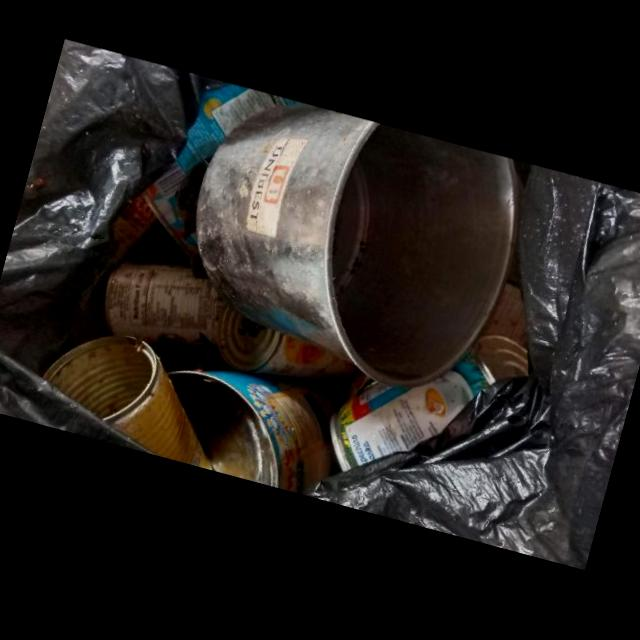nhom: (194, 102, 520, 387), (141, 83, 298, 279), (330, 334, 528, 471), (166, 360, 341, 496), (44, 335, 206, 470), (205, 301, 363, 394), (99, 259, 220, 345)
